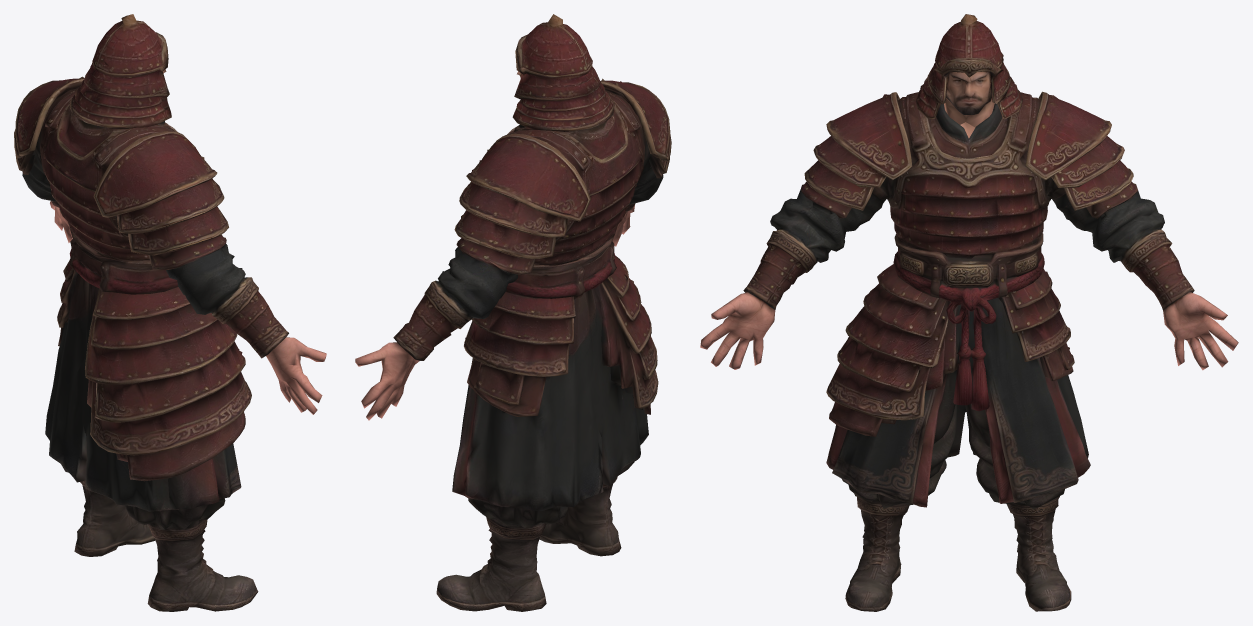
File: _all_slots.glb
The picture shows the model from 3 angles, left to right: view 1: azimuth 30°, elevation 25°; view 2: azimuth 150°, elevation 25°; view 3: azimuth 270°, elevation 25°; orthographic projection.
Visible parts, largest first — view 1: top, pants, arm_R, helmet, boot_R, belt, boot_L, arm_L; view 2: top, pants, arm_L, helmet, boot_L, belt, boot_R, arm_R; view 3: top, pants, arm_L, arm_R, belt, helmet, boot_R, boot_L, head.
Boxes of the visible parts, <box> form: top: <box>14,76,251,511</box>; pants: <box>45,273,241,531</box>; arm_R: <box>166,245,326,414</box>; helmet: <box>70,14,171,128</box>; boot_R: <box>147,519,258,611</box>; belt: <box>68,227,178,294</box>; boot_L: <box>74,480,155,556</box>; arm_L: <box>22,139,72,242</box>; top: <box>454,78,671,486</box>; pants: <box>452,292,634,527</box>; arm_L: <box>355,247,517,420</box>; helmet: <box>512,14,614,131</box>; boot_L: <box>436,517,546,611</box>; belt: <box>506,234,616,299</box>; boot_R: <box>539,476,621,556</box>; arm_R: <box>612,132,663,246</box>; top: <box>801,91,1137,457</box>; pants: <box>826,298,1090,509</box>; arm_L: <box>1047,178,1238,370</box>; arm_R: <box>700,177,893,369</box>; belt: <box>893,233,1044,411</box>; helmet: <box>915,14,1022,119</box>; boot_R: <box>845,497,909,611</box>; boot_L: <box>1006,496,1071,611</box>; head: <box>941,71,994,127</box>.
Bounding box in the file's own units: 0.2824 × 1 × 0.8611.
Materials: 14 (14 with a texture image).
